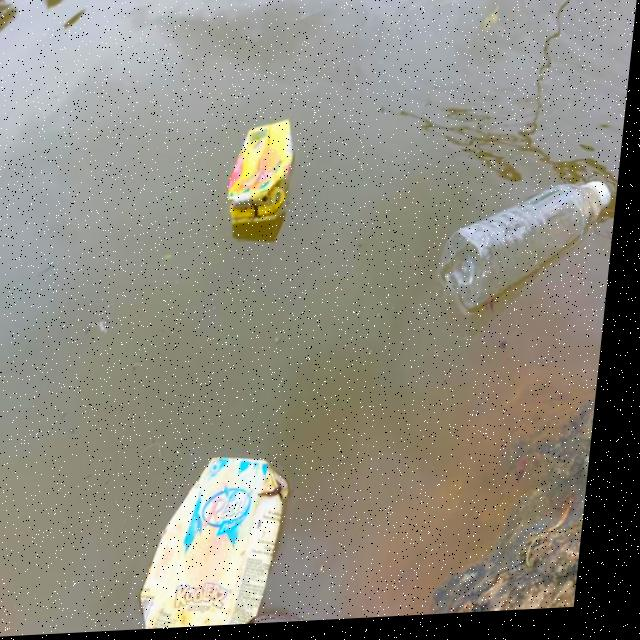paper: (150, 433, 328, 632), (203, 96, 327, 243)
waterbottle: (438, 171, 624, 339)
